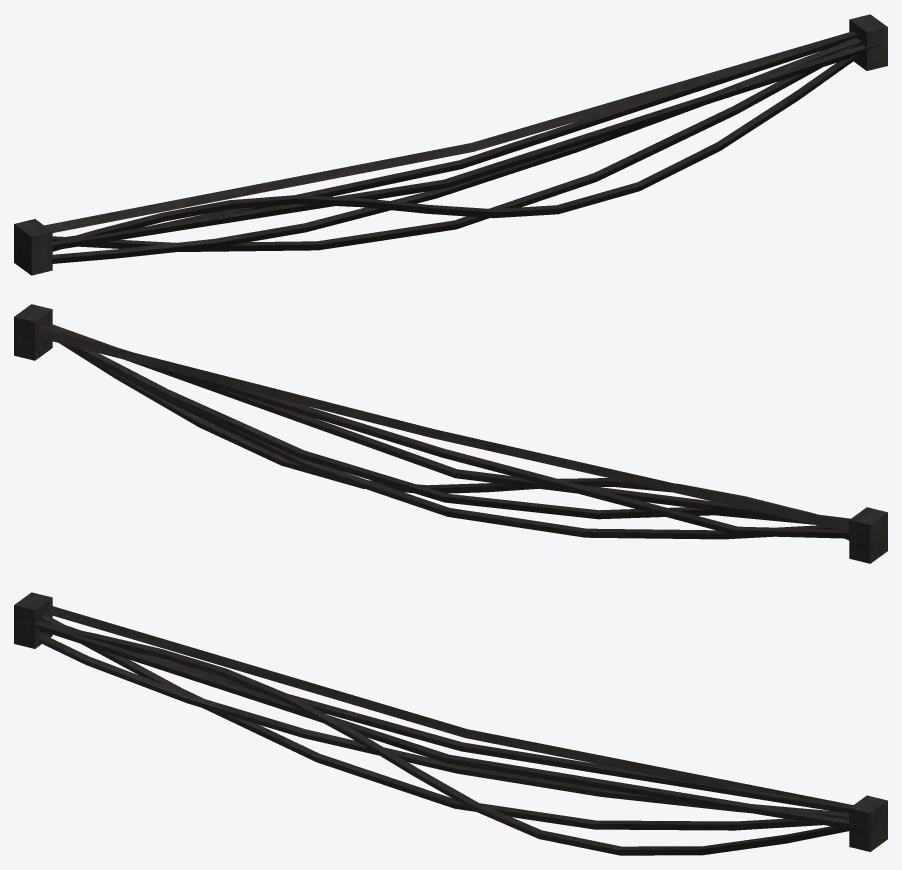
The model's file is Wire2.FBX.
3 views of the same model, one above another, from view 1: azimuth 30°, elevation 25°; view 2: azimuth 150°, elevation 25°; view 3: azimuth 330°, elevation 25° (orthographic).
Visible parts, largest first — view 1: HangingWires_1C; view 2: HangingWires_1C; view 3: HangingWires_1C.
Boxes of the visible parts, <box> form: HangingWires_1C: <box>14,14,887,275</box>; HangingWires_1C: <box>14,304,887,563</box>; HangingWires_1C: <box>14,592,887,855</box>.
Size of the model in its own units: 520 by 61.12 by 33.46.
